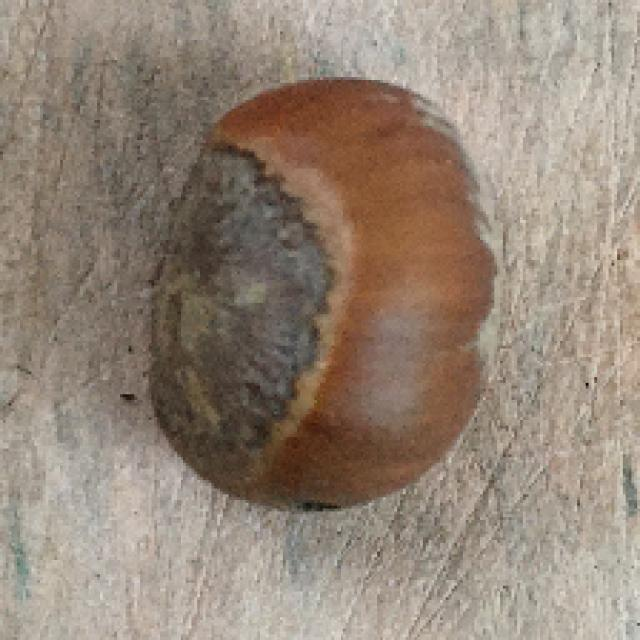qualityHazelnut: (147, 73, 502, 520)
